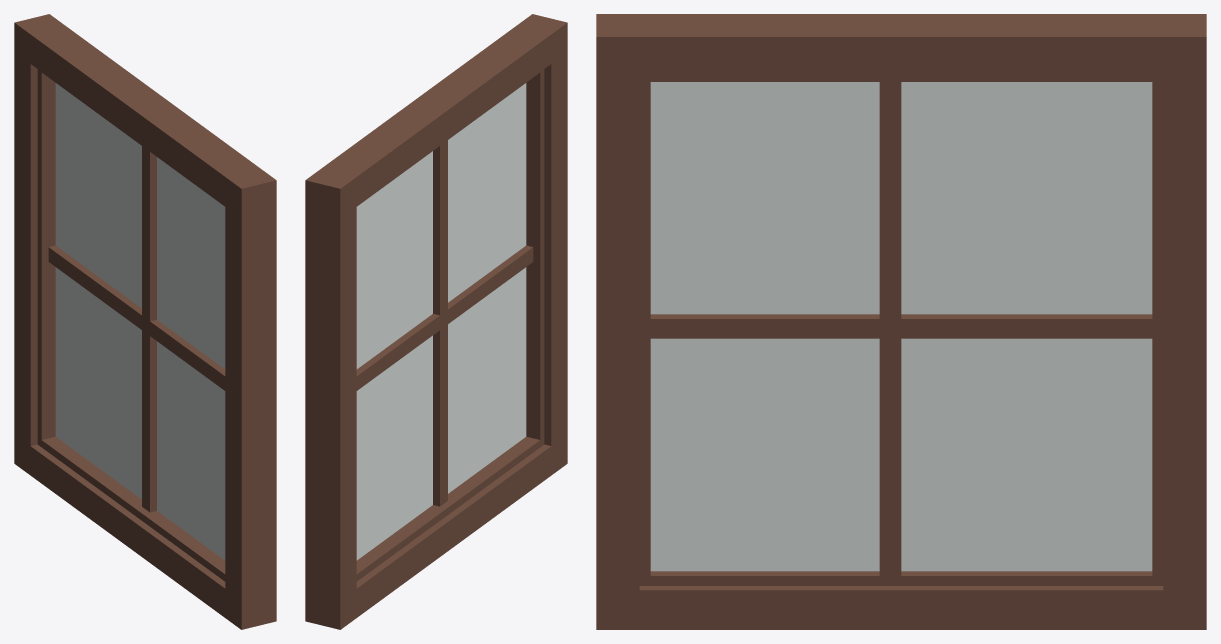
Rendered from Window.glb.
3 views of the same model, side by side, from view 1: azimuth 30°, elevation 25°; view 2: azimuth 150°, elevation 25°; view 3: azimuth 270°, elevation 25° (orthographic). The views are drawn at different scales.
Parts seen in each view (by area): view 1: model; view 2: model; view 3: model.
Part boxes in pixels (left/top/right/bottom): model: left=14, top=14, right=276, bottom=629; model: left=305, top=14, right=567, bottom=629; model: left=596, top=14, right=1206, bottom=629.
Size of the model in its own units: 0.05 by 0.6 by 0.56.
